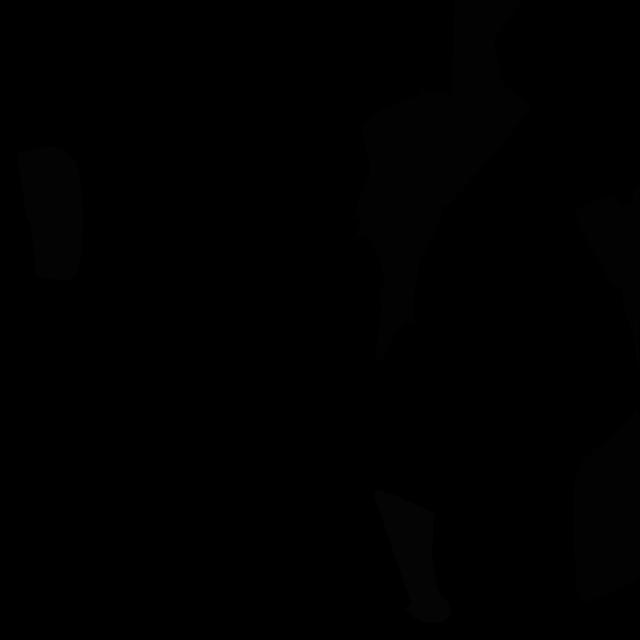cardboard: (353, 86, 466, 362), (572, 404, 640, 603), (573, 180, 640, 379), (450, 70, 531, 192), (452, 0, 522, 106)
metal: (16, 147, 83, 280)
soft_plastic: (374, 490, 450, 623)
